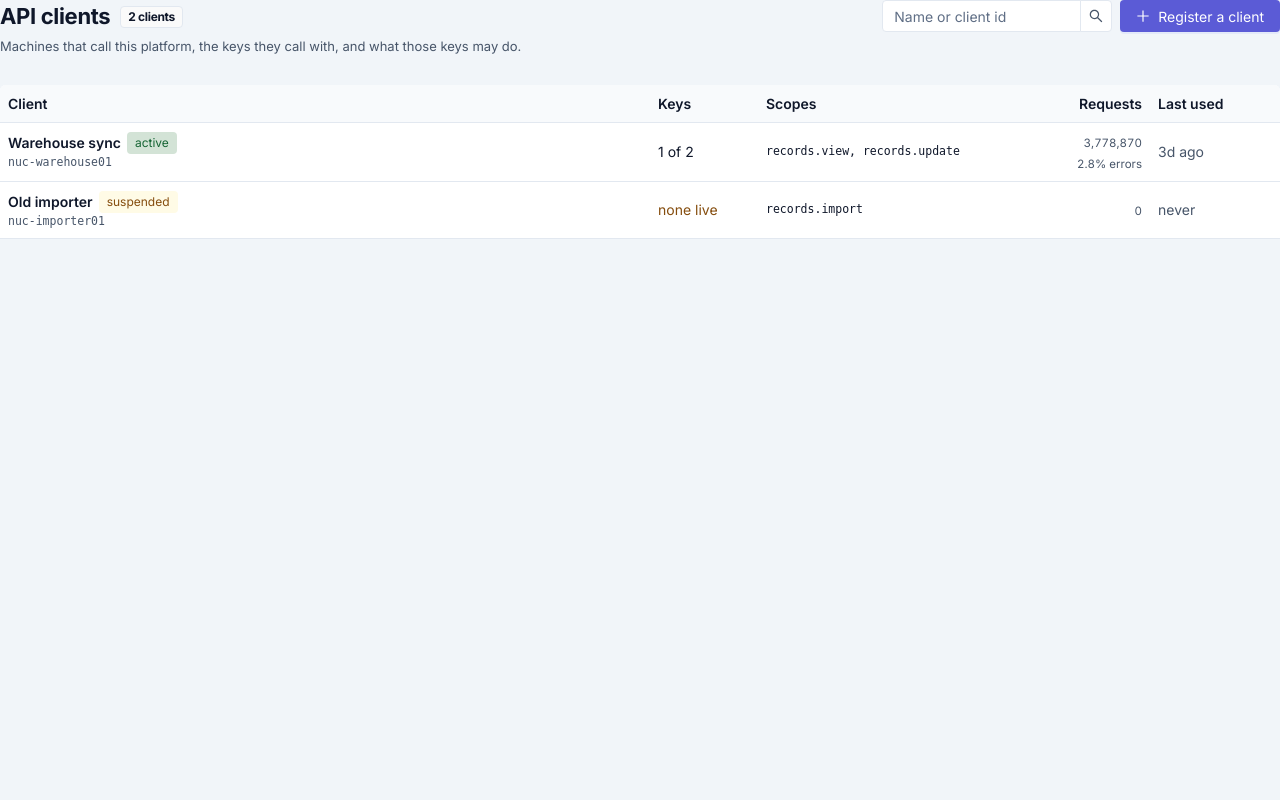
Scenario: the secret, shown once › asks again before letting the modal close
This screenshot has width=1280, height=800.
Check: the element with test id "clients-table" is shown, box [0,84,1279,239]
Click the button with test id "new-client": click(1200, 16) [1120,0,1279,32]
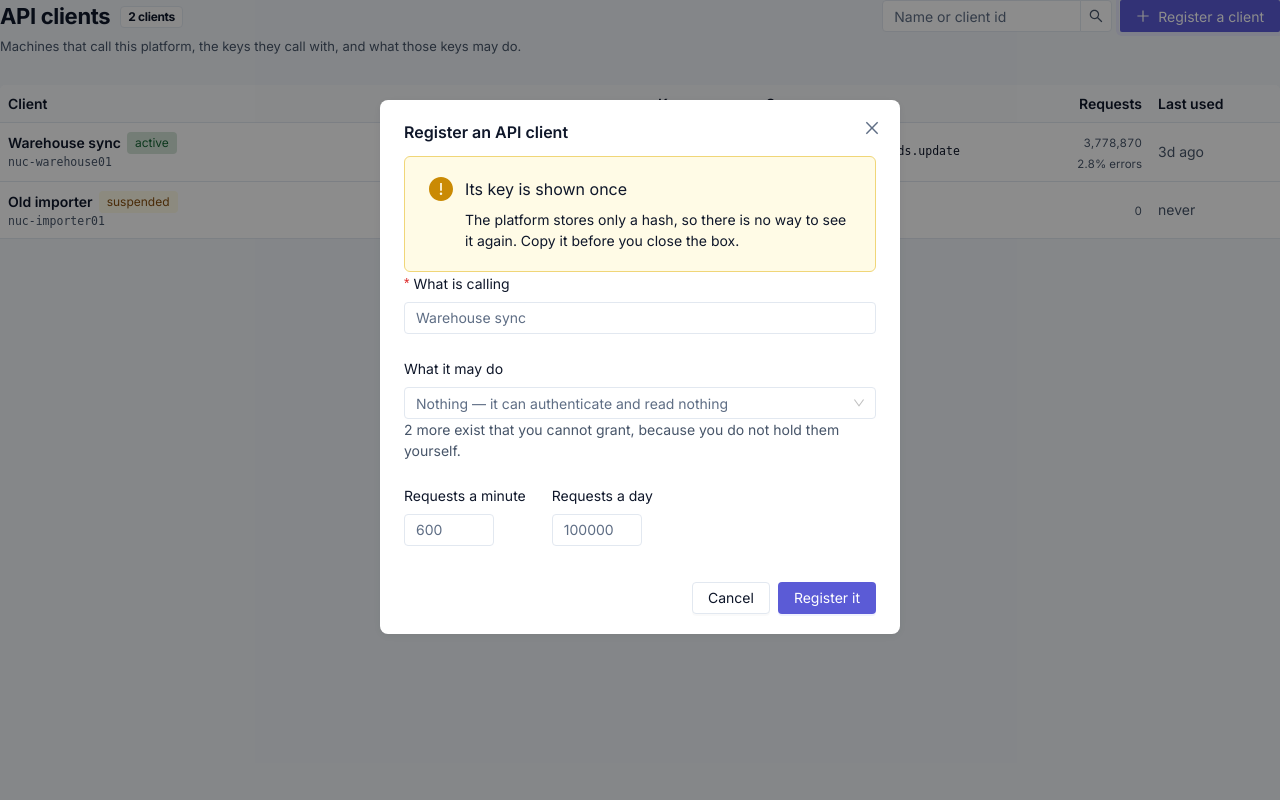
In the field named "Client name": (640, 318) [404,302,876,334], type "Careful close"
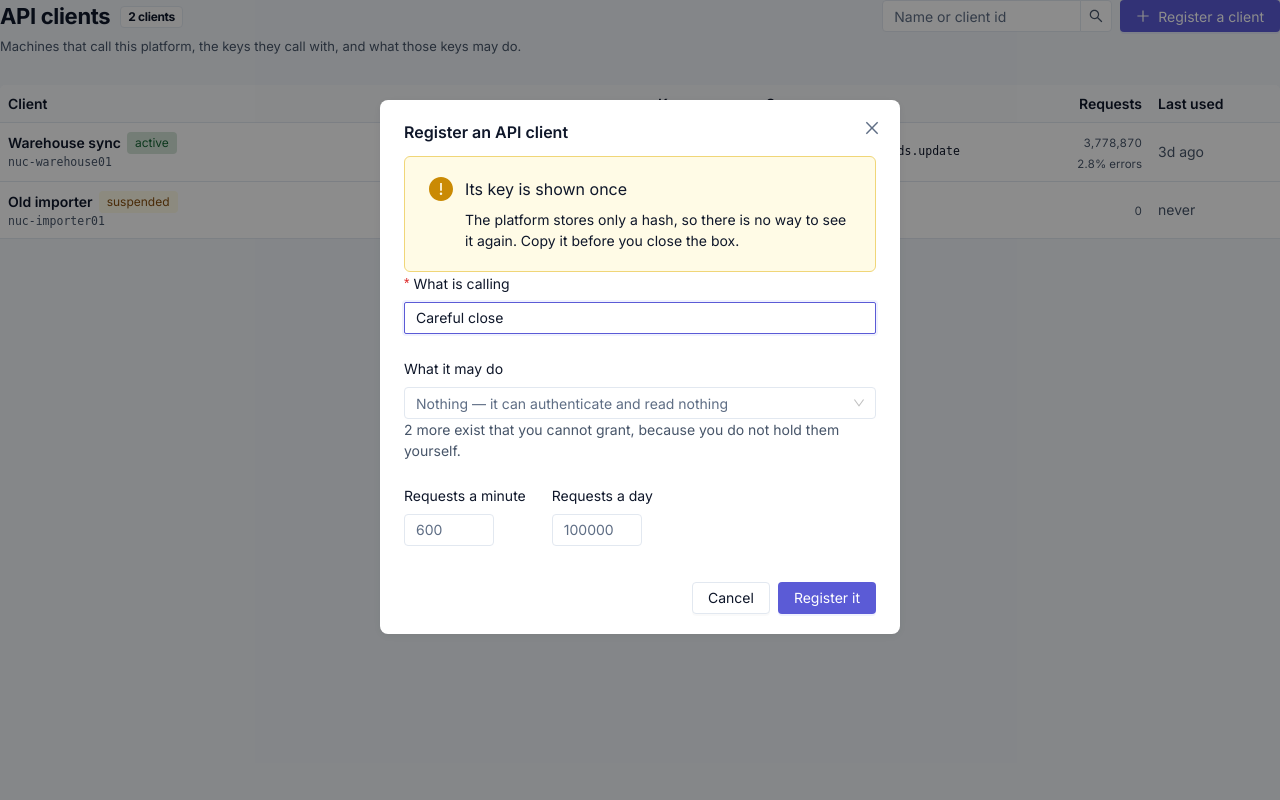
Click the button with test id "create-client": click(827, 598) [778,582,876,614]
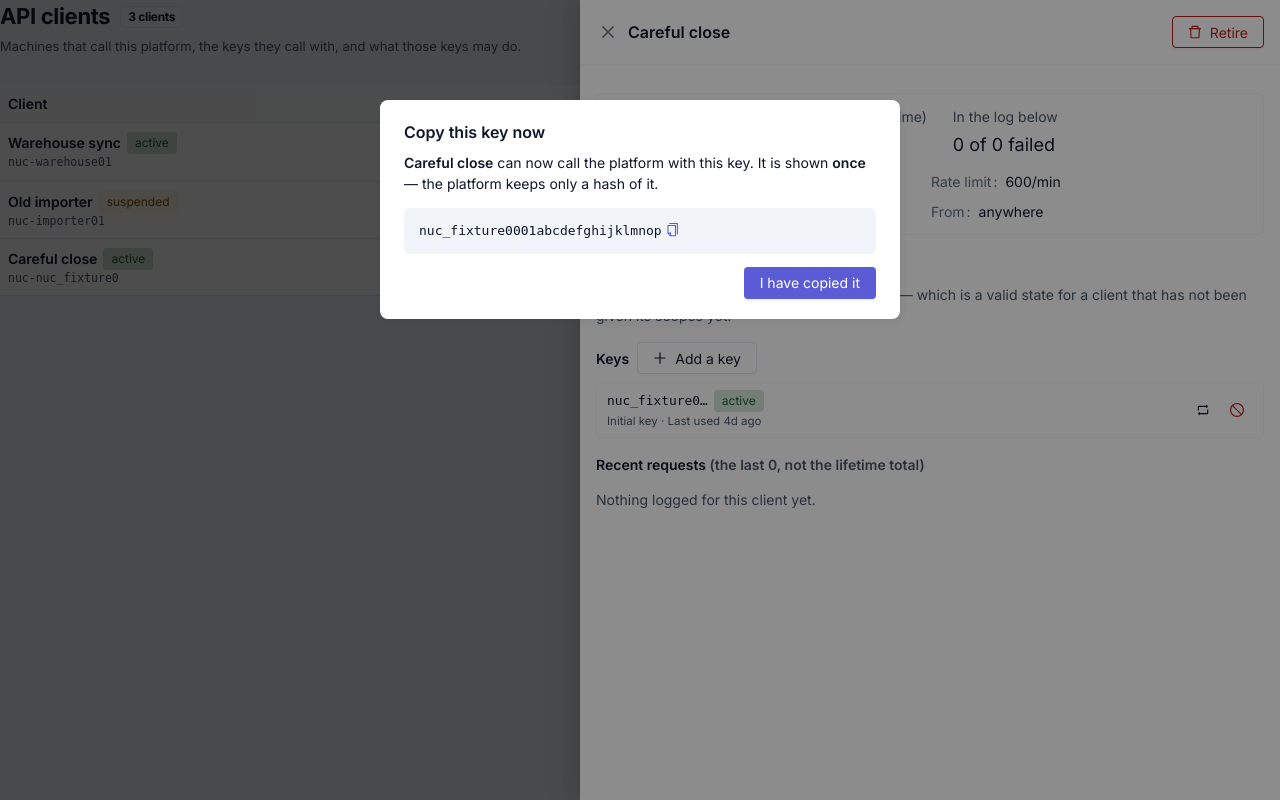
Check: the element with test id "secret-modal" is shown, box [404,152,876,254]
Click the button "I have copied it": click(810, 282) [744,266,876,298]
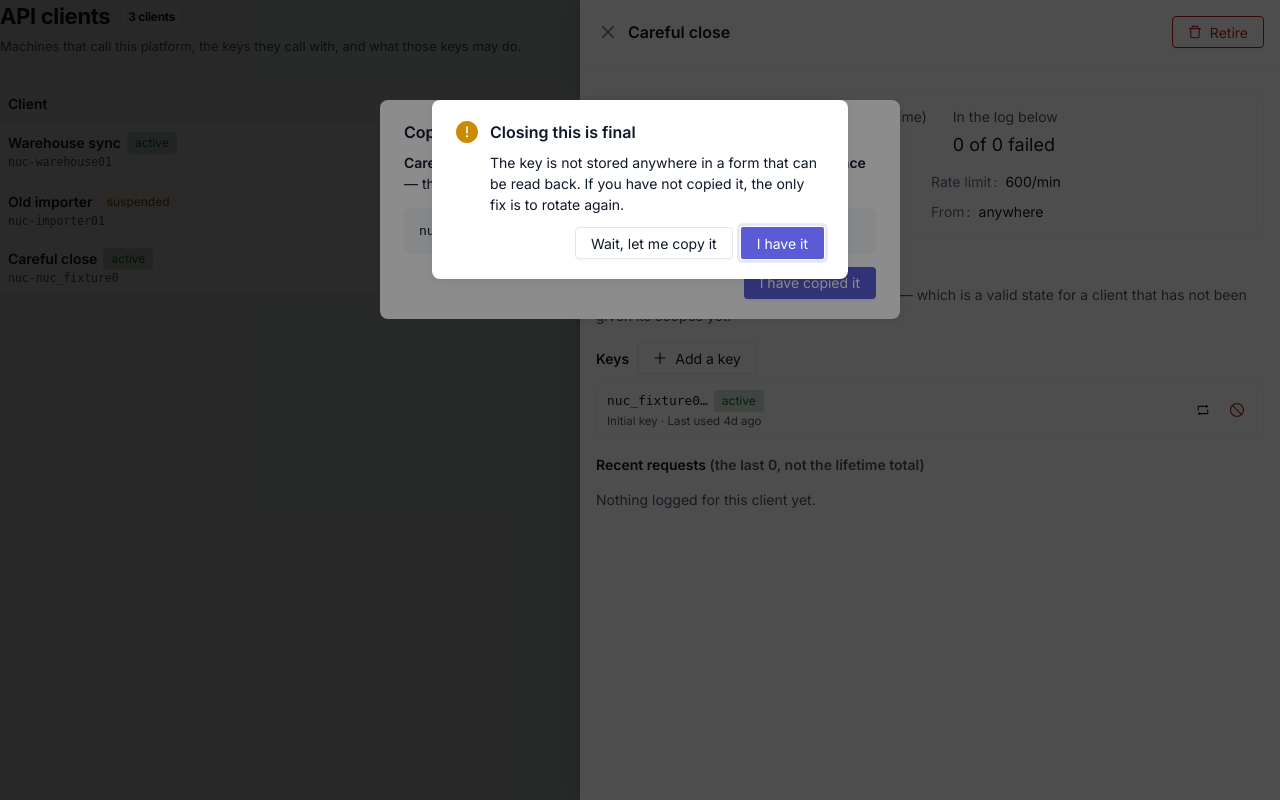
Check: the button "Wait, let me copy it" is shown, box [575,227,733,259]
